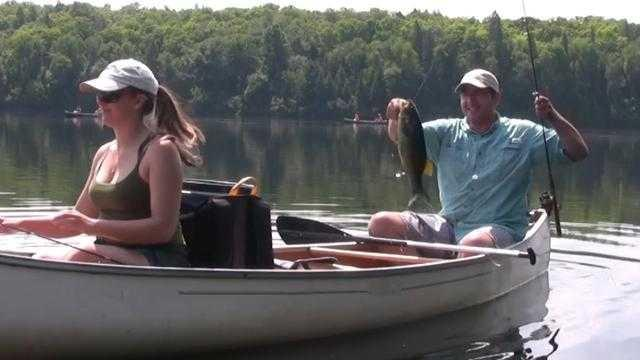kayak: (0, 185, 571, 352)
